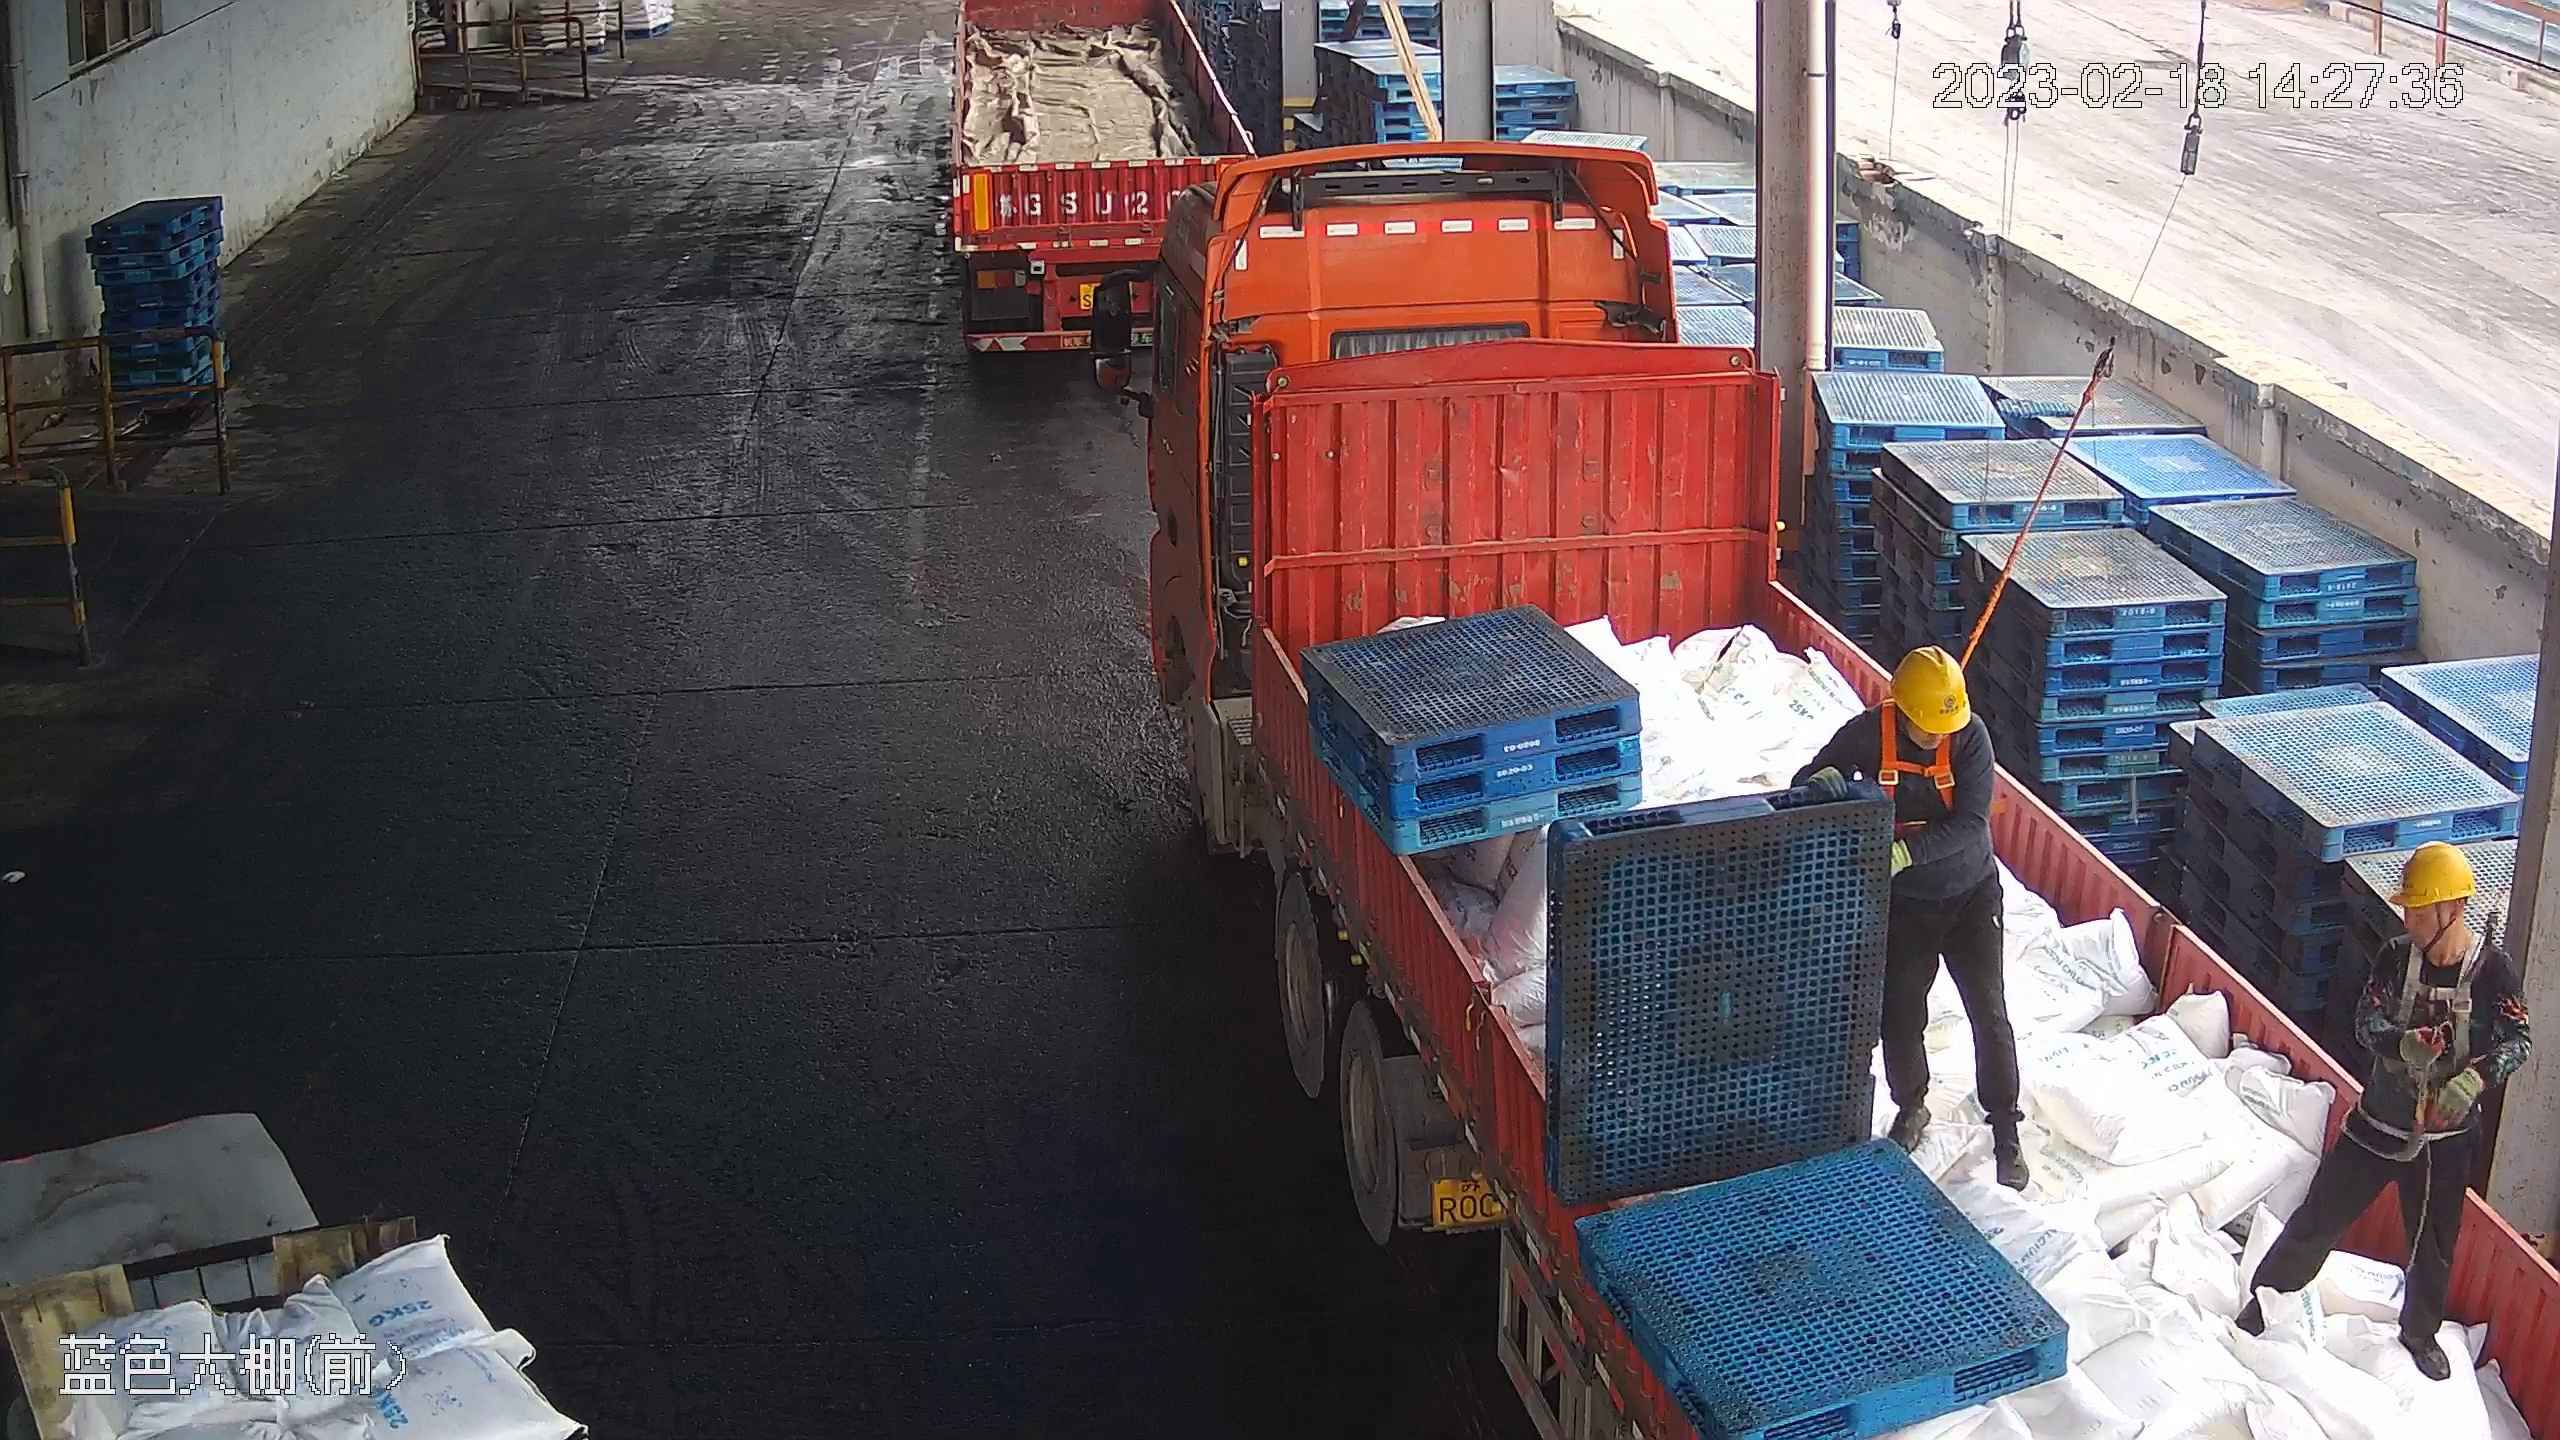belt: (1872, 697, 1964, 827), (2394, 930, 2475, 1070)
head: (2364, 838, 2511, 982), (1830, 643, 2000, 755)
helmet: (1886, 642, 1973, 735), (2389, 841, 2478, 907)
people: (2239, 840, 2530, 1380), (1793, 643, 2031, 1190)
truck: (1145, 138, 2560, 1440)
